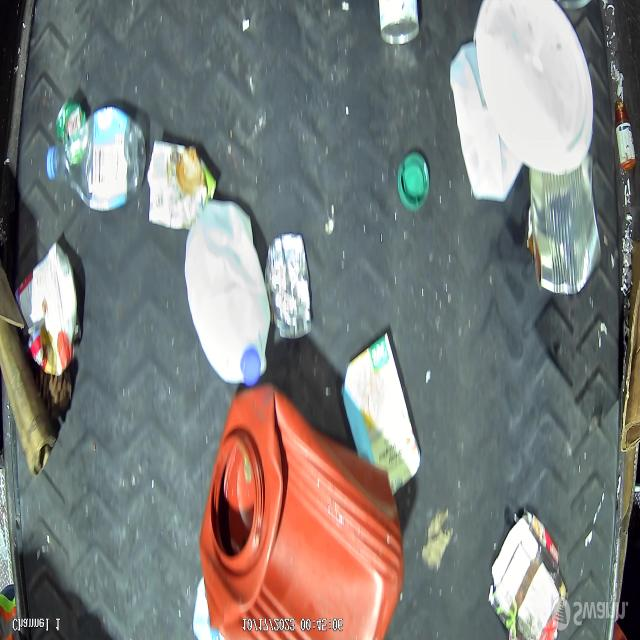can: (378, 1, 422, 49)
milk_jug: (479, 0, 597, 175), (185, 205, 272, 387), (452, 42, 524, 206)
non_white_jug: (199, 383, 405, 640)
plastic_bottle: (46, 100, 144, 212)
